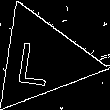L_N: (22, 32, 62, 87)
